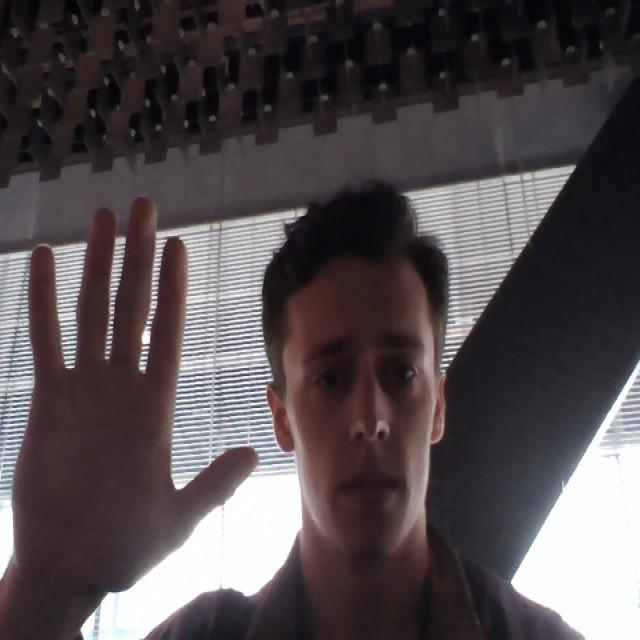backward: (7, 190, 257, 612)
